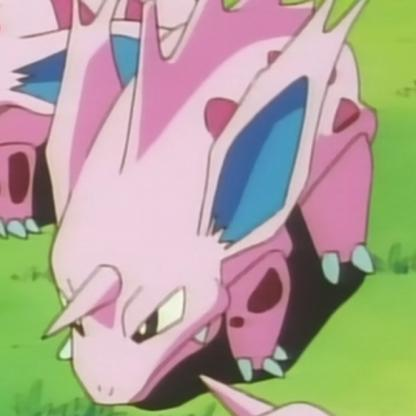Nidorino: (51, 3, 398, 404)
